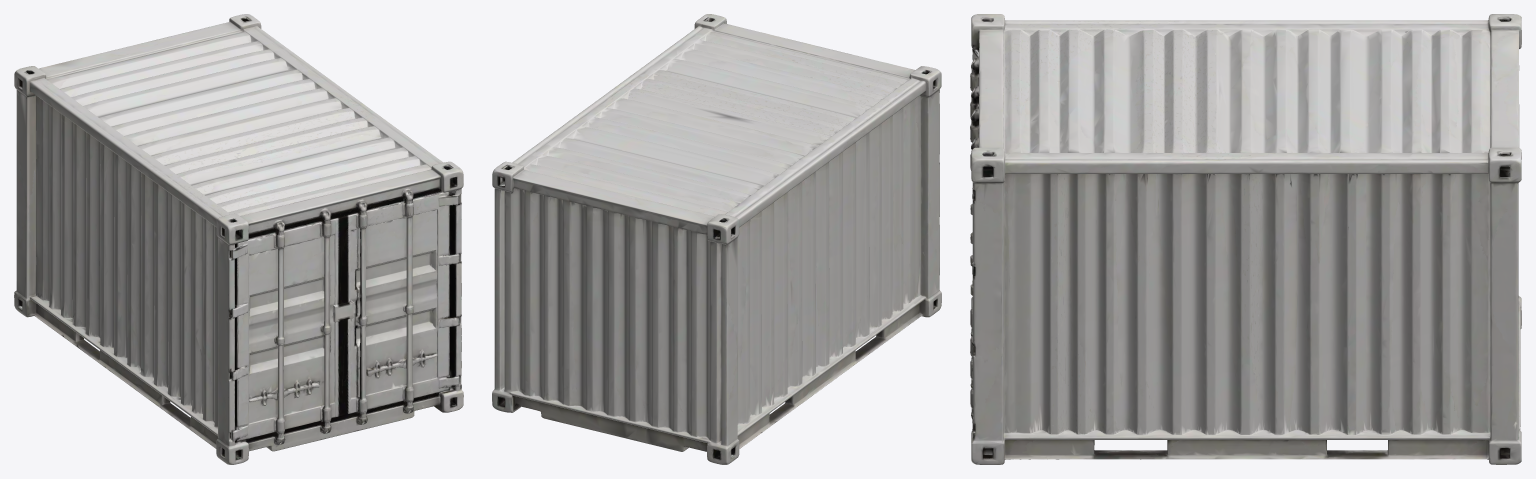
File: shipping_container_d50ffbf4_v2.glb
3 renders of one model, left to right at view 1: azimuth 30°, elevation 25°; view 2: azimuth 150°, elevation 25°; view 3: azimuth 270°, elevation 25°, orthographic. The views are drawn at different scales.
Visible parts, largest first — view 1: material; view 2: material; view 3: material.
Part boxes in pixels (left/top/right/bottom): material: left=14, top=14, right=463, bottom=464; material: left=492, top=14, right=941, bottom=464; material: left=970, top=14, right=1521, bottom=464.
Size of the model in its own units: 0.5722 by 0.5566 by 0.9096.
1 material, 1 textured.
